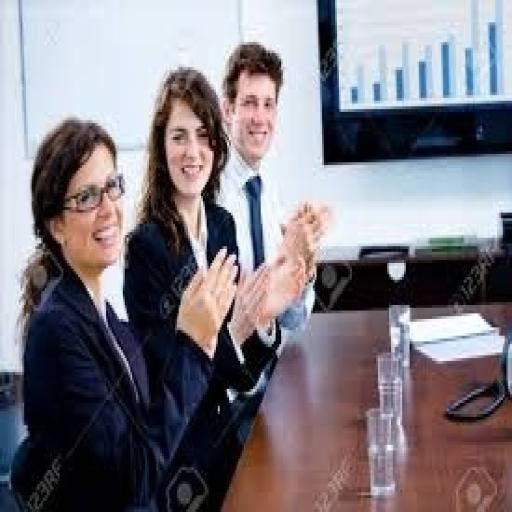clapping: (121, 64, 320, 510), (13, 115, 238, 509)
